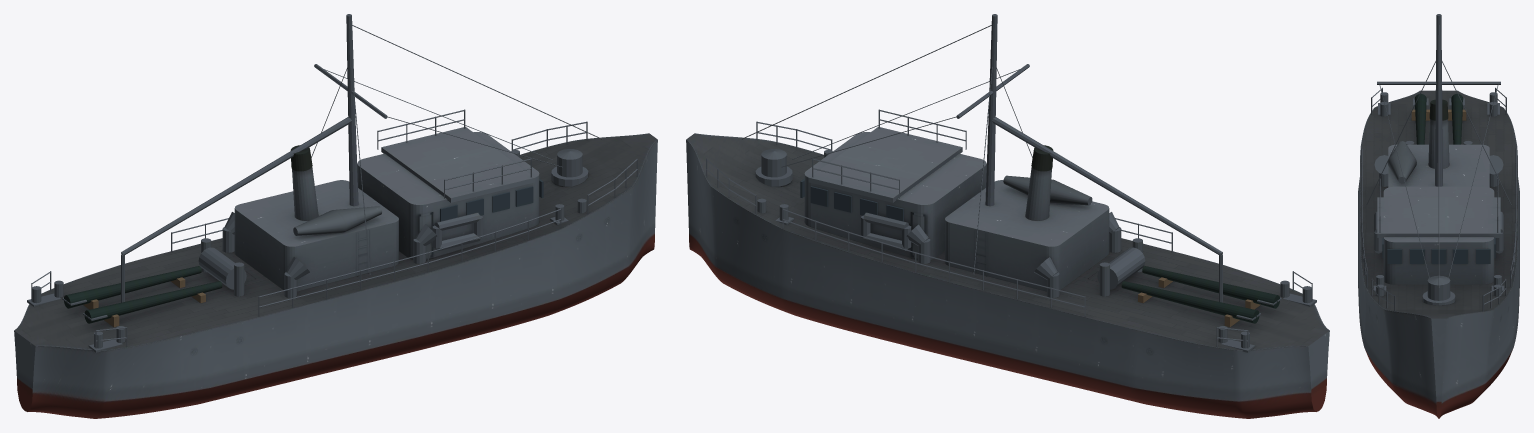
The model's file is crow-amc-20.glb.
The picture shows the model from 3 angles, left to right: view 1: azimuth 30°, elevation 25°; view 2: azimuth 150°, elevation 25°; view 3: azimuth 270°, elevation 25°; orthographic projection. The views are drawn at different scales.
Visible parts, largest first — view 1: Bottom; view 2: Bottom; view 3: Bottom.
Part boxes in pixels (bbox=[...]): Bottom: bbox=[14, 14, 657, 418]; Bottom: bbox=[686, 14, 1329, 418]; Bottom: bbox=[1358, 14, 1519, 418].
Bounding box in the file's own units: 25.35 × 12.67 × 6.4.
1 material, 1 textured.
